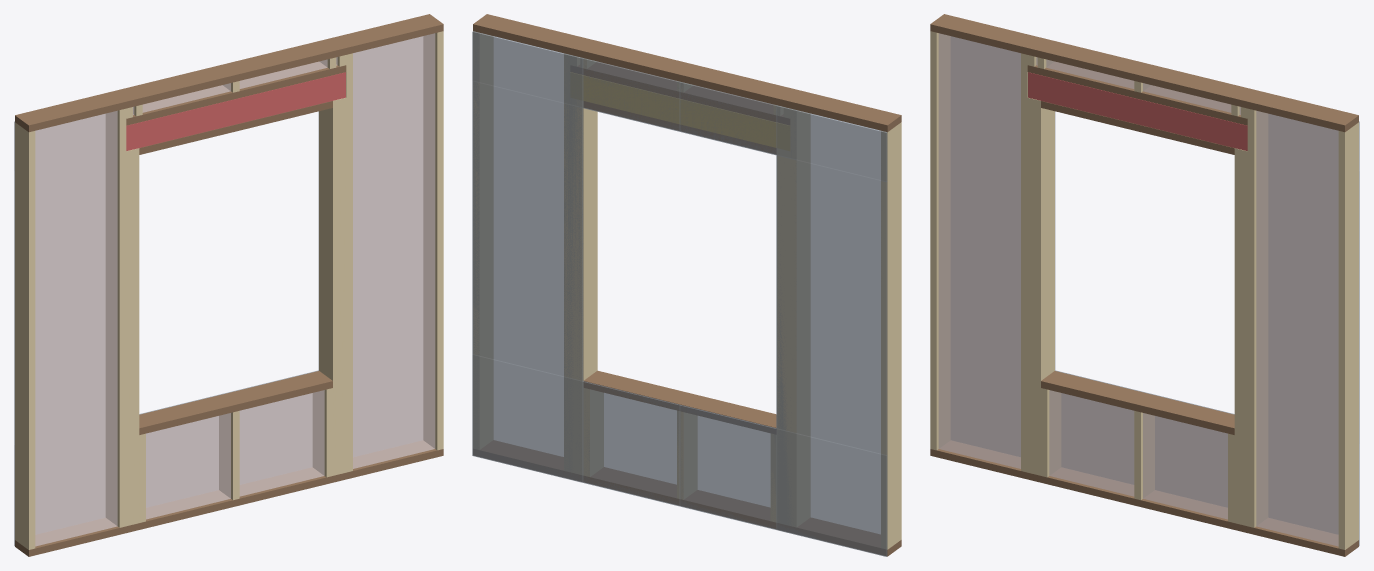
3 renders of one model, left to right at view 1: azimuth 30°, elevation 25°; view 2: azimuth 150°, elevation 25°; view 3: azimuth 330°, elevation 25°, orthographic.
Parts seen in each view (by area): view 1: EX2 GF; view 2: EX2 GF; view 3: EX2 GF.
Part boxes in pixels (box(x1,y1,x2,y2)): EX2 GF: box(14, 14, 443, 556); EX2 GF: box(472, 14, 901, 556); EX2 GF: box(930, 14, 1359, 556).
Size of the model in its own units: 2.4 by 2.39 by 0.149.
